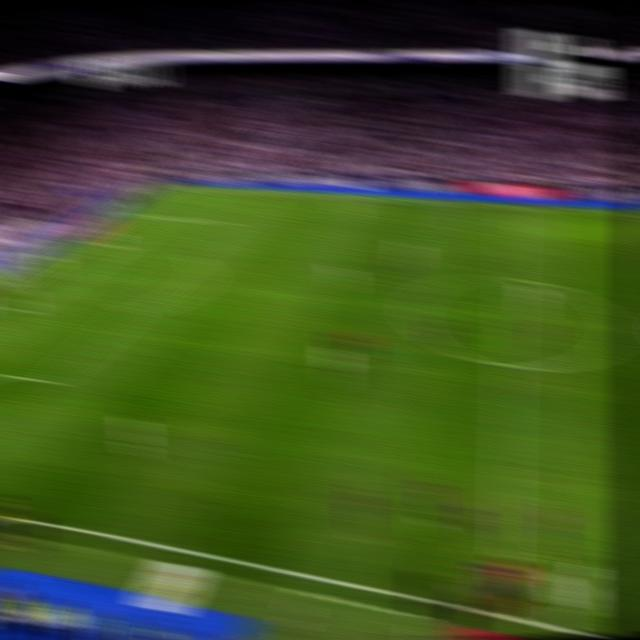bigarea_bottom_inner: (39, 370, 64, 390)
bigarea_top_inner: (222, 215, 242, 229)
bottom_arc_area_intersection: (121, 303, 144, 318)
corner: (157, 179, 181, 191)
halfcircle_bottom: (495, 353, 522, 377)
halfcircle_top: (498, 266, 524, 288)
midline_top_intersection: (502, 199, 523, 214)
smallarea_top_inner: (106, 237, 127, 249)
top_arc_area_intersection: (182, 248, 203, 262)
